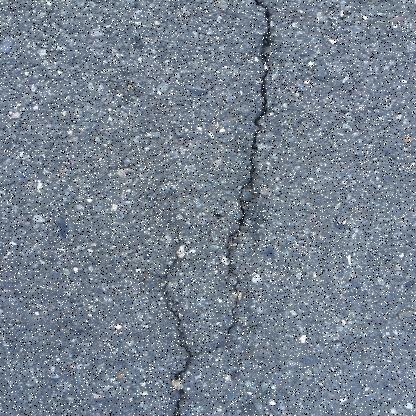Cracks: (211, 0, 280, 343), (140, 261, 200, 415)
